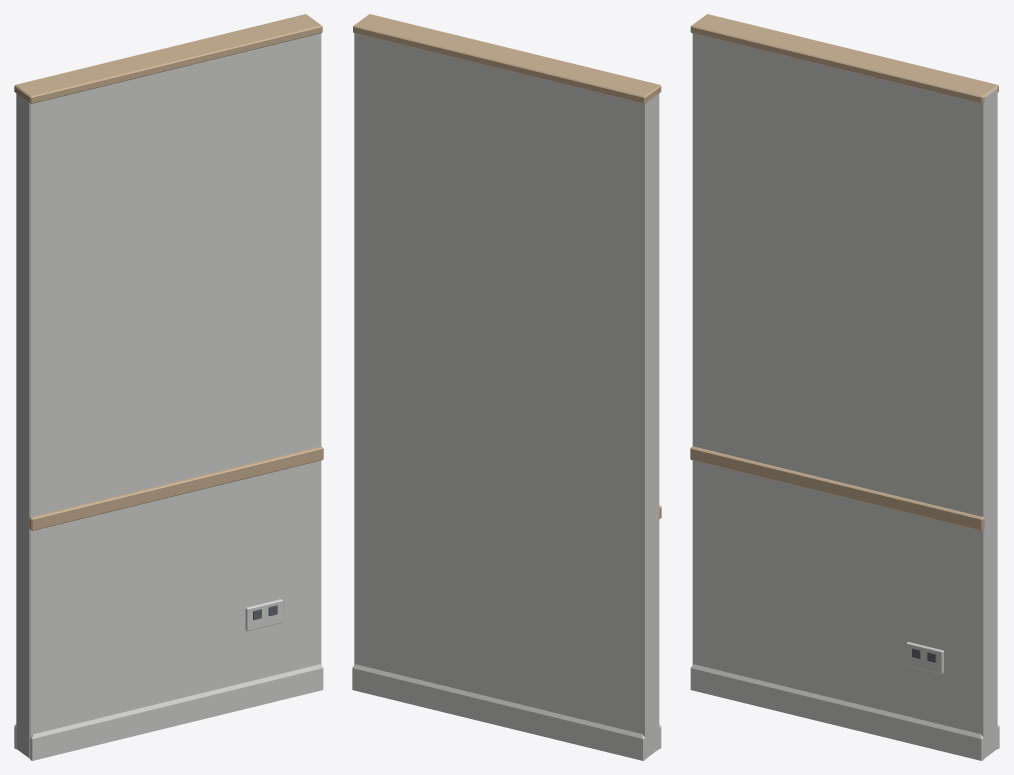
Rendered from office-lobby-and-facilities-corridor-wall-module-e7d49ee5__26165.glb.
3 views of the same model, side by side, from view 1: azimuth 30°, elevation 25°; view 2: azimuth 150°, elevation 25°; view 3: azimuth 330°, elevation 25° (orthographic).
Parts seen in each view (by area): view 1: corridor-wall-module; view 2: corridor-wall-module; view 3: corridor-wall-module.
Boxes of the visible parts, x1,y1,x2,y2 form: corridor-wall-module: (14,14,323,760); corridor-wall-module: (352,14,661,760); corridor-wall-module: (690,14,999,760).
Bounding box in the file's own units: 1.2 × 2.6 × 0.129.
